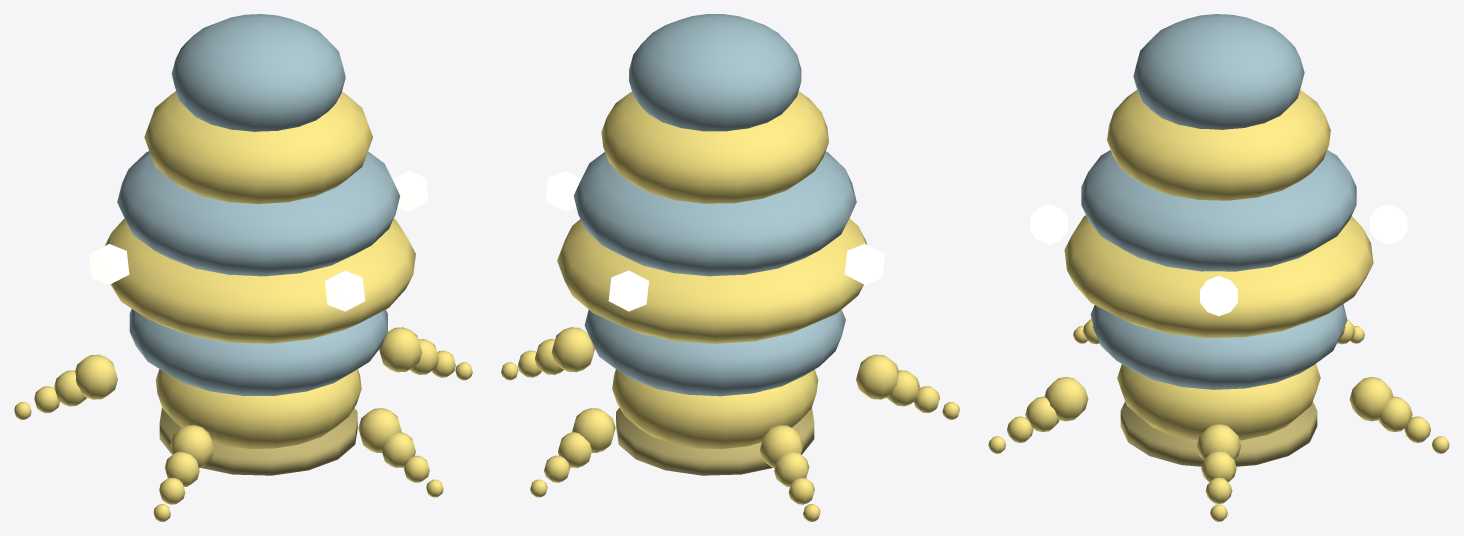
Rendered from egg_storm_03.glb.
3 views of the same model, side by side, from view 1: azimuth 30°, elevation 25°; view 2: azimuth 150°, elevation 25°; view 3: azimuth 270°, elevation 25° (orthographic).
Parts seen in each view (by area): view 1: ball; view 2: ball; view 3: ball.
Part boxes in pixels (box(x1,y1,x2,y2)): ball: box(14, 14, 472, 521); ball: box(501, 14, 959, 521); ball: box(988, 14, 1449, 521).
Size of the model in its own units: 0.9843 by 0.99 by 1.03.
